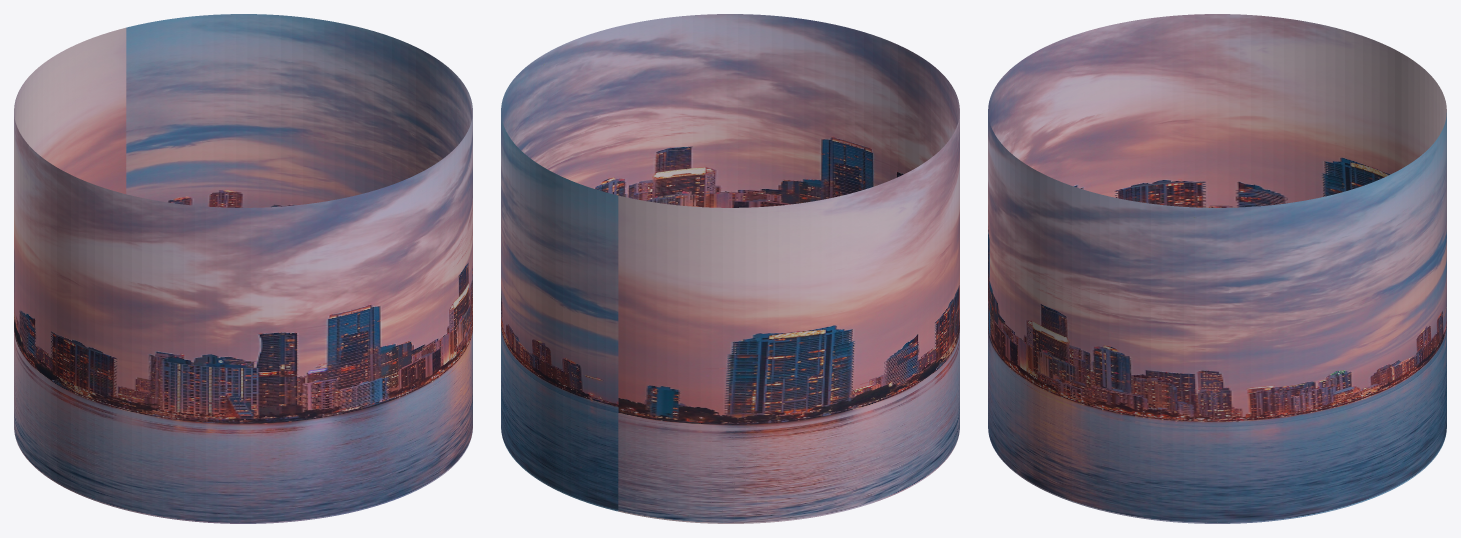
Rendered from full_cylinder_h_228cm_r_150cm.obj.
3 renders of one model, left to right at view 1: azimuth 30°, elevation 25°; view 2: azimuth 150°, elevation 25°; view 3: azimuth 270°, elevation 25°, orthographic.
Parts seen in each view (by area): view 1: Cylinder_Cylinder.001; view 2: Cylinder_Cylinder.001; view 3: Cylinder_Cylinder.001.
Part boxes in pixels (left/top/right/bottom): Cylinder_Cylinder.001: left=14, top=14, right=472, bottom=523; Cylinder_Cylinder.001: left=501, top=14, right=959, bottom=523; Cylinder_Cylinder.001: left=988, top=14, right=1446, bottom=523.
Size of the model in its own units: 3 by 2.28 by 3.
